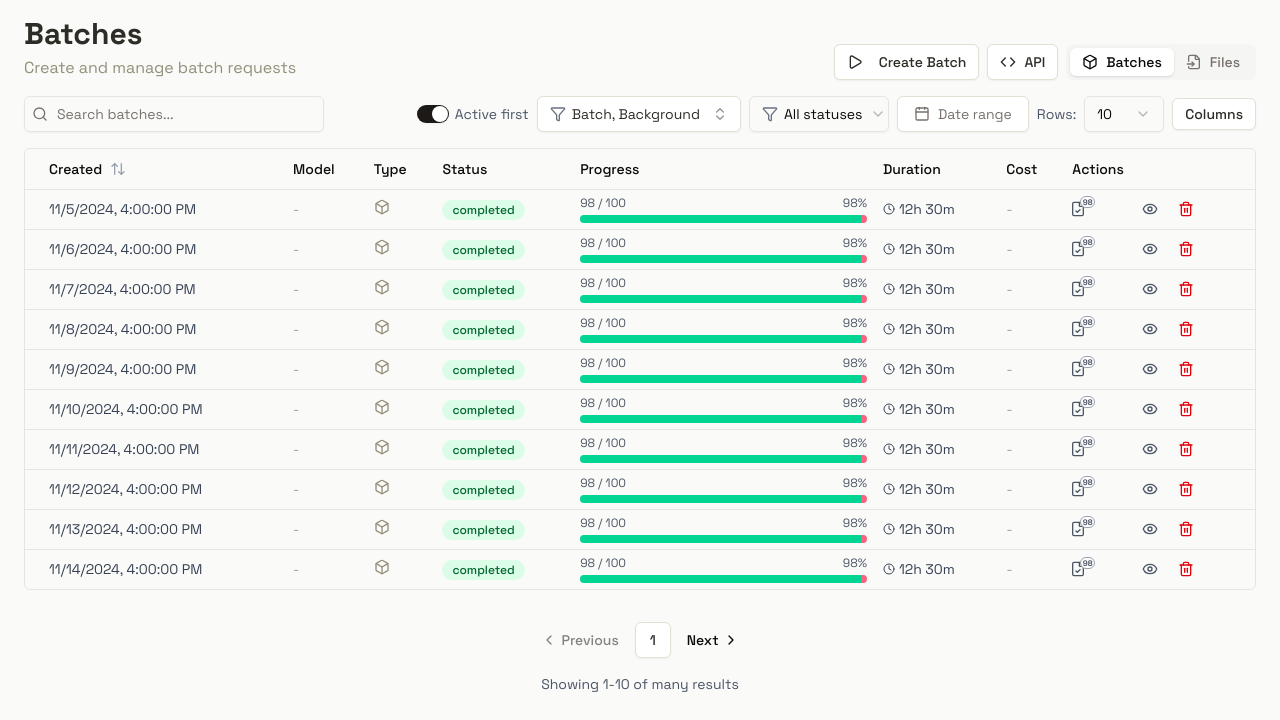
it: Batches - Pagination › Batches Pagination › should navigate forward through batch pages
This screenshot has width=1280, height=720.
Click the tab "Batches" at (1122, 62), box [1070,48,1174,76]
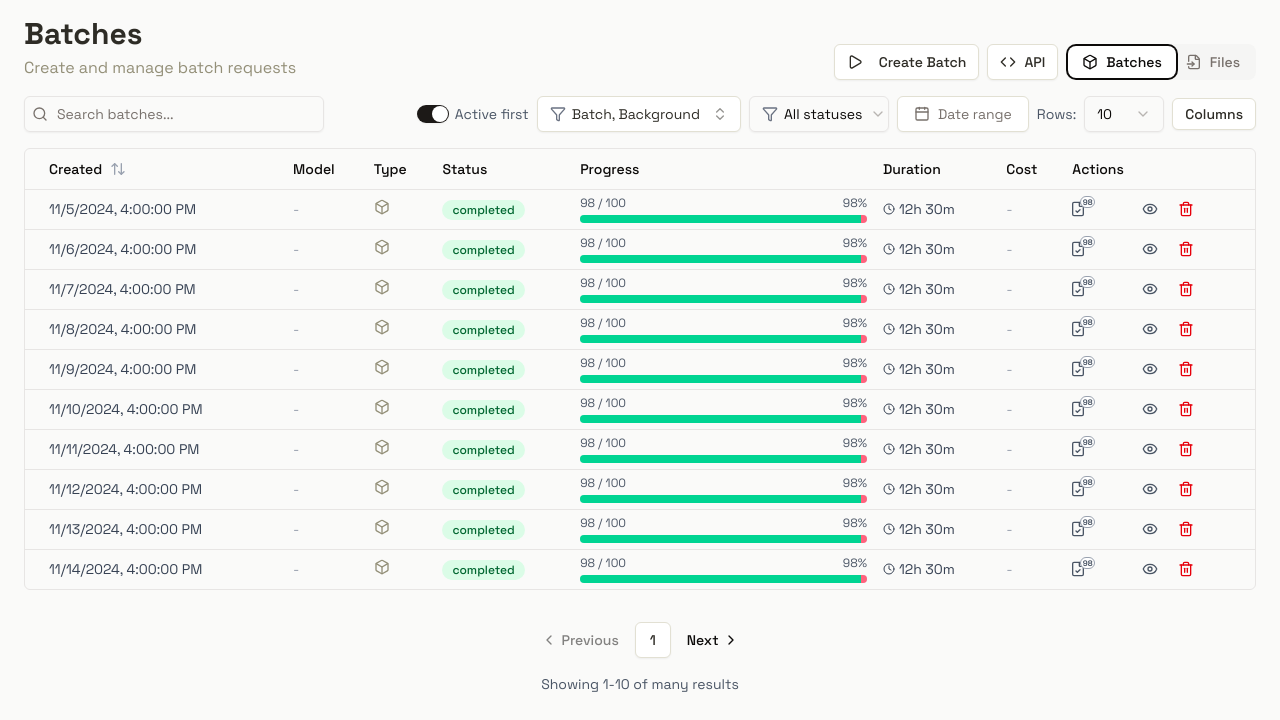
Expected: the link "1" is shown, [635,622,671,658]
Click the link with aria-label "go to next page" at (713, 640), box [687,631,739,649]
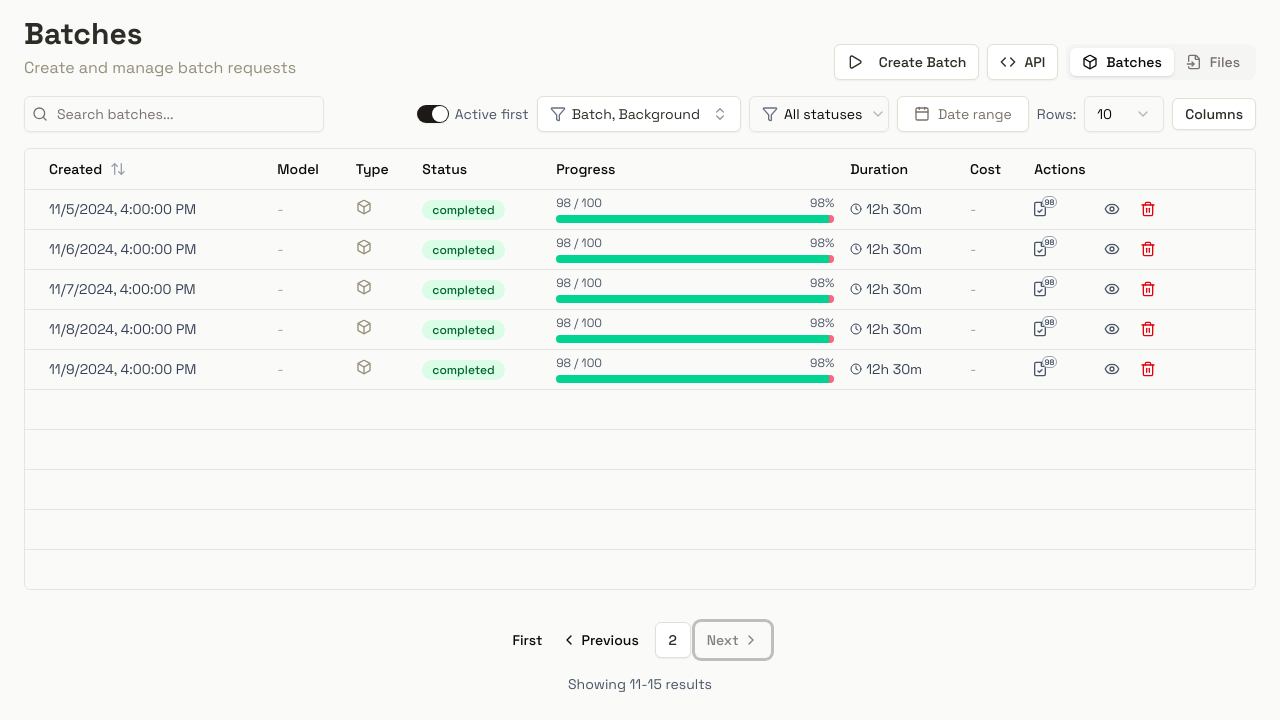
Now the link "2" is shown, box [655,622,691,658]
